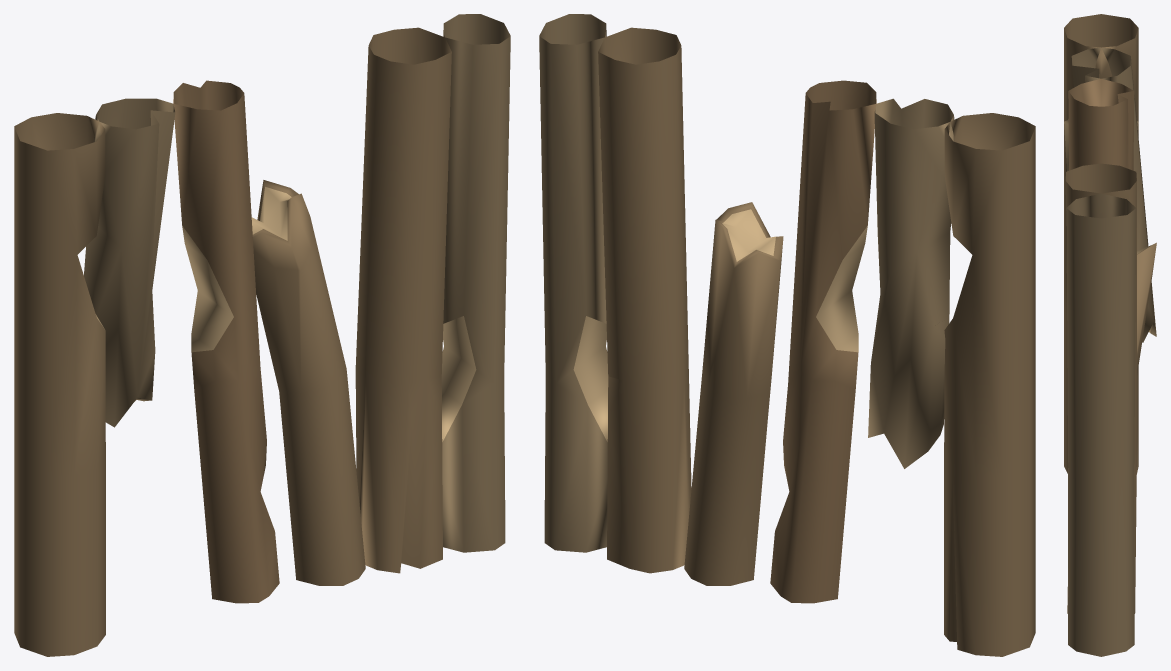
Rendered from rpgpp_av_wall_04_3x3_d.fbx.
3 renders of one model, left to right at view 1: azimuth 30°, elevation 25°; view 2: azimuth 150°, elevation 25°; view 3: azimuth 270°, elevation 25°, orthographic. The views are drawn at different scales.
Parts seen in each view (by area): view 1: rpgpp_av_wall_04_3x3_d; view 2: rpgpp_av_wall_04_3x3_d; view 3: rpgpp_av_wall_04_3x3_d.
Boxes of the visible parts, x1=… form: rpgpp_av_wall_04_3x3_d: x1=14, y1=14, x2=510, y2=656; rpgpp_av_wall_04_3x3_d: x1=539, y1=14, x2=1035, y2=656; rpgpp_av_wall_04_3x3_d: x1=1064, y1=14, x2=1156, y2=656.
Size of the model in its own units: 300 by 300 by 57.62.
